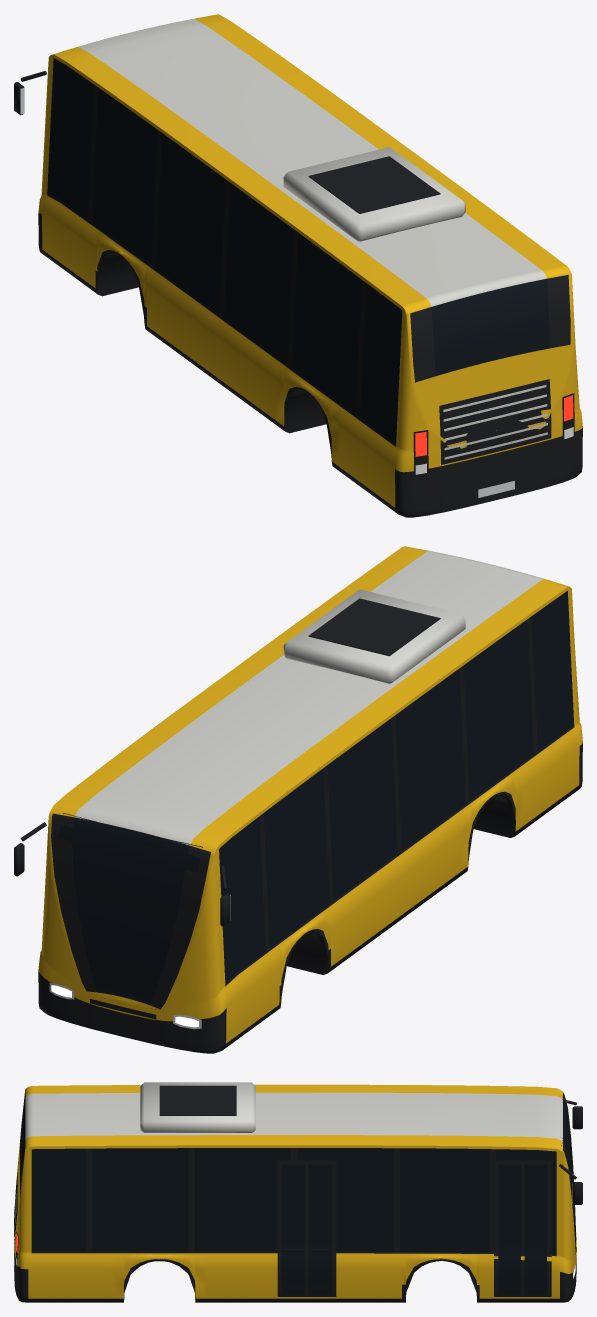
The model's file is bus_body.glb.
3 views of the same model, one above another, from view 1: azimuth 30°, elevation 25°; view 2: azimuth 150°, elevation 25°; view 3: azimuth 270°, elevation 25° (orthographic). The views are drawn at different scales.
Visible parts, largest first — view 1: BusBody, RearBumper; view 2: BusBody, FrontBumper; view 3: BusBody, RearBumper, FrontBumper.
Boxes of the visible parts, <box> form: BusBody: <box>14,14,582,512</box>; RearBumper: <box>395,428,582,517</box>; BusBody: <box>14,546,582,1047</box>; FrontBumper: <box>38,971,226,1053</box>; BusBody: <box>14,1082,582,1302</box>; RearBumper: <box>14,1249,28,1302</box>; FrontBumper: <box>560,1257,576,1302</box>.
Size of the model in its own units: 2.87 by 2.93 by 8.89.
